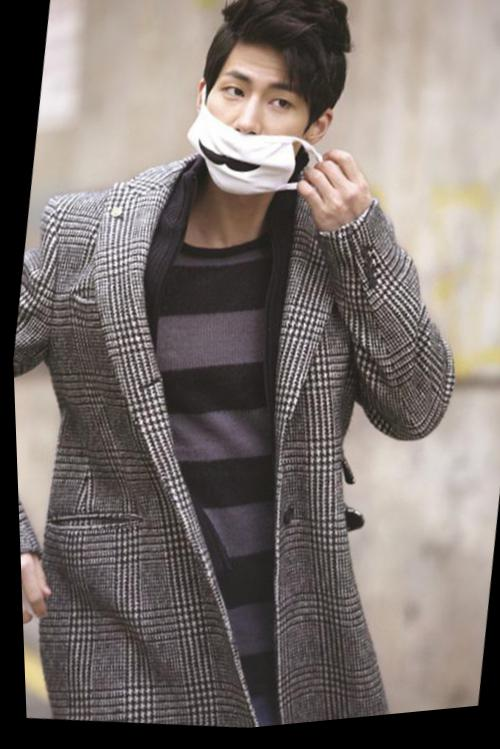WRONG: (179, 56, 329, 213)
